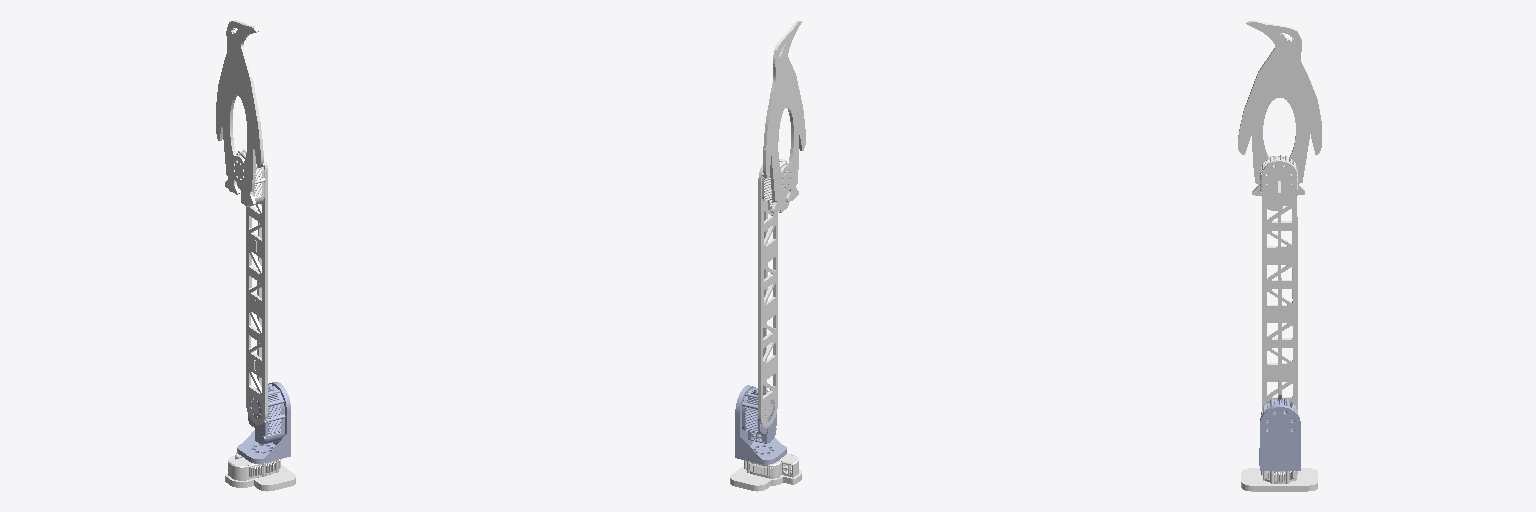
The robot description file, URDF, robot "threedof":
<?xml version="1.0" encoding="utf-8"?>
<!-- This URDF was automatically created by SolidWorks to URDF Exporter! Originally created by [author] ([email redacted]) 
     Commit Version: 1.6.0-1-g15f4949  Build Version: 1.6.7594.29634
     For more information, please see http://wiki.ros.org/sw_urdf_exporter -->
<robot
  name="threedof">
  <link
    name="base_link">
    <inertial>
      <origin
        xyz="0.027661 0.036474 0.01935"
        rpy="0 0 0" />
      <mass
        value="0.26208" />
      <inertia
        ixx="0.00022086"
        ixy="-1.0592E-05"
        ixz="5.1404E-08"
        iyy="0.00017245"
        iyz="7.3706E-08"
        izz="0.00038326" />
    </inertial>
    <visual>
      <origin
        xyz="0 0 0"
        rpy="0 0 0" />
      <geometry>
        <mesh
          filename="package://threedof_description/meshes/base_link.STL" />
      </geometry>
      <material
        name="">
        <color
          rgba="1 1 1 1" />
      </material>
    </visual>
    <collision>
      <origin
        xyz="0 0 0"
        rpy="0 0 0" />
      <geometry>
        <mesh
          filename="package://threedof_description/meshes/base_link.STL" />
      </geometry>
    </collision>
  </link>
  <link
    name="pan_link">
    <inertial>
      <origin
        xyz="0.013743 -0.00057866 0.066706"
        rpy="0 0 0" />
      <mass
        value="0.40442" />
      <inertia
        ixx="0.00057306"
        ixy="2.2453E-06"
        ixz="-8.0548E-05"
        iyy="0.0004829"
        iyz="-8.7651E-06"
        izz="0.00026558" />
    </inertial>
    <visual>
      <origin
        xyz="0 0 0"
        rpy="0 0 0" />
      <geometry>
        <mesh
          filename="package://threedof_description/meshes/pan_link.STL" />
      </geometry>
      <material
        name="">
        <color
          rgba="0.79216 0.81961 0.93333 1" />
      </material>
    </visual>
    <collision>
      <origin
        xyz="0 0 0"
        rpy="0 0 0" />
      <geometry>
        <mesh
          filename="package://threedof_description/meshes/pan_link.STL" />
      </geometry>
    </collision>
  </link>
  <joint
    name="pan_joint"
    type="continuous">
    <origin
      xyz="0.04 0.038 0.04375"
      rpy="0 0 0" />
    <parent
      link="base_link" />
    <child
      link="pan_link" />
    <axis
      xyz="0 0 1" />
    <limit
      lower="0"
      upper="0"
      effort="0"
      velocity="0" />
  </joint>
  <link
    name="middle_link">
    <inertial>
      <origin
        xyz="0.418368236328951 0.00197961961955199 -0.00869357385429382"
        rpy="0 0 0" />
      <mass
        value="0.234421224693047" />
      <inertia
        ixx="8.63954989744976E-05"
        ixy="2.57567893192812E-08"
        ixz="7.30534865927783E-08"
        iyy="0.00217132176771958"
        iyz="-1.94162891647324E-06"
        izz="0.00224945944065325" />
    </inertial>
    <visual>
      <origin
        xyz="0 0 0"
        rpy="0 0 0" />
      <geometry>
        <mesh
          filename="package://threedof_description/meshes/middle_link.STL" />
      </geometry>
      <material
        name="">
        <color
          rgba="1 1 1 1" />
      </material>
    </visual>
    <collision>
      <origin
        xyz="0 0 0"
        rpy="0 0 0" />
      <geometry>
        <mesh
          filename="package://threedof_description/meshes/middle_link.STL" />
      </geometry>
    </collision>
  </link>
  <joint
    name="middle_joint"
    type="continuous">
    <origin
      xyz="-0.015055 0 0.1"
      rpy="3.1416 -1.5708 0" />
    <parent
      link="pan_link" />
    <child
      link="middle_link" />
    <axis
      xyz="0 0 -1" />
    <limit
      lower="0"
      upper="0"
      effort="0"
      velocity="0" />
  </joint>
  <link
    name="penguin_link">
    <inertial>
      <origin
        xyz="0.122282237274082 0.00465981632341642 0.00329773579956762"
        rpy="0 0 0" />
      <mass
        value="0.359779960508515" />
      <inertia
        ixx="0.000583463151886059"
        ixy="-5.62822005919465E-05"
        ixz="-1.49227411291738E-06"
        iyy="0.00348022481749467"
        iyz="-1.50073574155108E-05"
        izz="0.00406049585207363" />
    </inertial>
  </link>
  <joint
    name="penguin_joint"
    type="continuous">
    <origin
      xyz="0.508 0.0015475 -0.03102"
      rpy="3.1416 0 0" />
    <parent
      link="middle_link" />
    <child
      link="penguin_link" />
    <axis
      xyz="0 0 -1" />
    <limit
      lower="0"
      upper="0"
      effort="0"
      velocity="0" />
  </joint>
  <link
    name="tip_link">
    <inertial>
      <origin
        xyz="-1.55846010955682E-06 -0.180525596428397 -0.0999073158637585"
        rpy="0 0 0" />
      <mass
        value="0.359779960508515" />
      <inertia
        ixx="0.00406088372050552"
        ixy="4.72794690049149E-08"
        ixz="-3.15781763813482E-08"
        iyy="0.000644406138401172"
        iyz="-0.000419487226182252"
        izz="0.00341889396254766" />
    </inertial>
    <visual>
      <origin
        xyz="0 0 0"
        rpy="0 0 0" />
      <geometry>
        <mesh
          filename="package://threedof_description/meshes/tip_link.STL" />
      </geometry>
      <material
        name="">
        <color
          rgba="1 1 1 1" />
      </material>
    </visual>
    <collision>
      <origin
        xyz="0 0 0"
        rpy="0 0 0" />
      <geometry>
        <mesh
          filename="package://threedof_description/meshes/tip_link.STL" />
      </geometry>
    </collision>
  </link>
  <joint
    name="tip_joint_fixed"
    type="fixed">
    <origin
      xyz="0.31685 -0.063972 0.001527"
      rpy="2.9753 1.545 1.5708" />
    <parent
      link="penguin_link" />
    <child
      link="tip_link" />
    <axis
      xyz="0 0 0" />
  </joint>
</robot>

--- What the picture shows (computed from the rendered views, not written in the file) ---
3 views of the same robot in one strip: view 1: azimuth 30°, elevation 25°; view 2: azimuth 150°, elevation 25°; view 3: azimuth 270°, elevation 25° (orthographic).
Model threedof with 5 links and 4 joints (3 continuous, 1 fixed), rooted at base_link, posed all joints at 0.
Links seen in each view (by area): view 1: tip_link, middle_link, pan_link, base_link; view 2: middle_link, tip_link, pan_link, base_link; view 3: middle_link, tip_link, pan_link, base_link.
Link boxes in pixels (x1,y1,x2,y2): tip_link: [216, 20, 263, 204]; middle_link: [236, 149, 267, 424]; pan_link: [237, 382, 290, 463]; base_link: [225, 453, 295, 491]; middle_link: [758, 159, 789, 427]; tip_link: [763, 21, 805, 213]; pan_link: [735, 385, 786, 464]; base_link: [730, 453, 801, 491]; middle_link: [1260, 155, 1297, 409]; tip_link: [1238, 20, 1321, 195]; pan_link: [1259, 399, 1300, 470]; base_link: [1241, 468, 1317, 491].
Size in the robot's own frame: 0.1192 by 0.1658 by 0.9718 metres.
Meshes: 4 distinct files referenced, 4 mesh visuals loaded (4 binary STL).